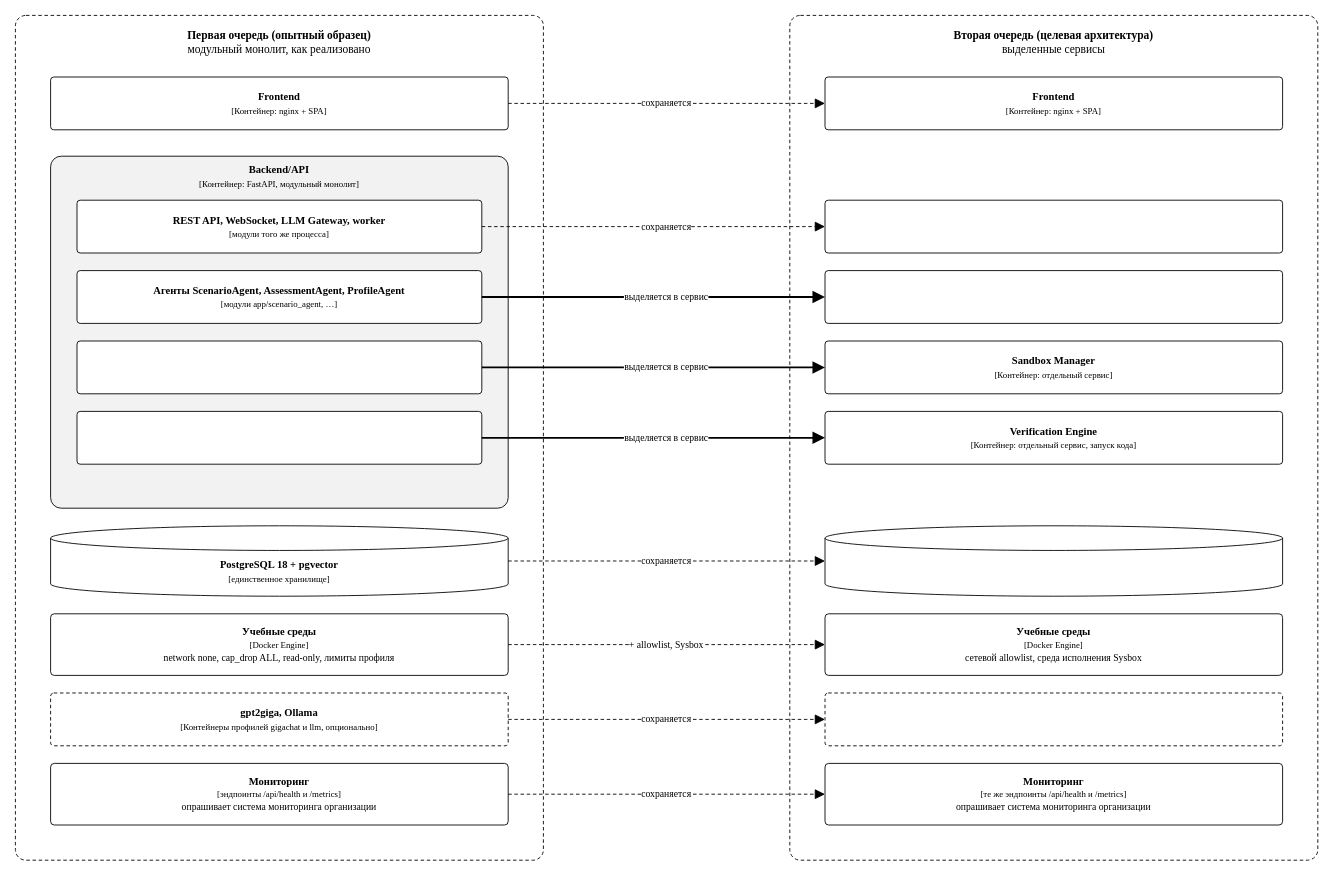
The diagram is 1333 pixels wide and 876 high, and some of its shapes have lost their labels. Here are the shapes that lost their labels. From the top down, the centre of each, then its label:
At (1053,226): "Backend/API: REST, WebSocket, LLM Gateway, worker [Контейнер]".
At (1053,296): "Сервис агентов [Контейнер: ScenarioAgent, AssessmentAgent, ProfileAgent]".
At (279,367): "Sandbox Manager [модуль app/sandbox]".
At (279,437): "Verification Engine и запуск кода [модули app/verification, app/coderun]".
At (1053,560): "PostgreSQL 18 + pgvector [то же хранилище]".
At (1053,719): "gpt2giga, Ollama [те же контейнеры, опционально]".
